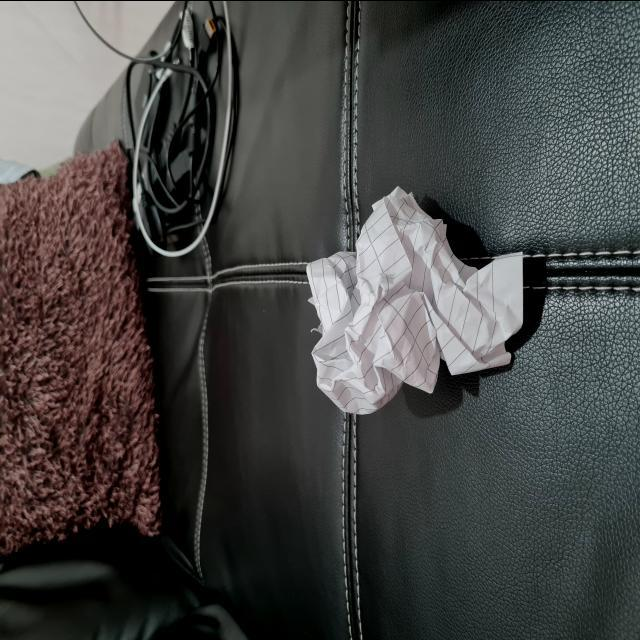Paper: (300, 184, 532, 420)
